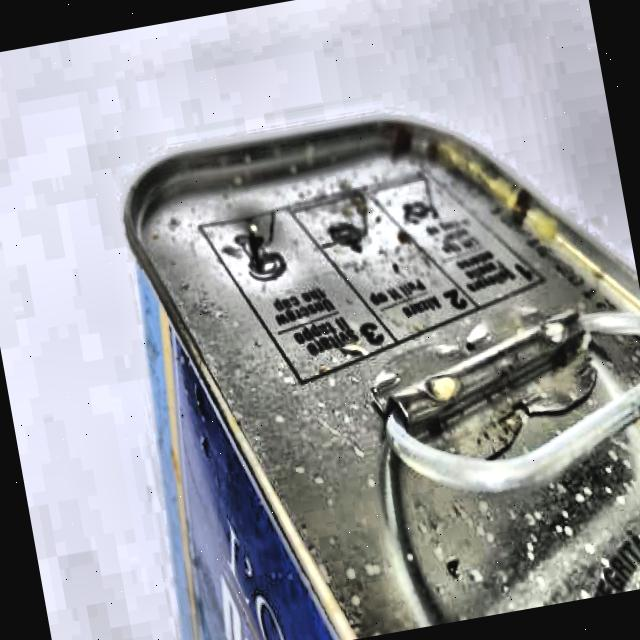metal: (102, 75, 640, 640)
